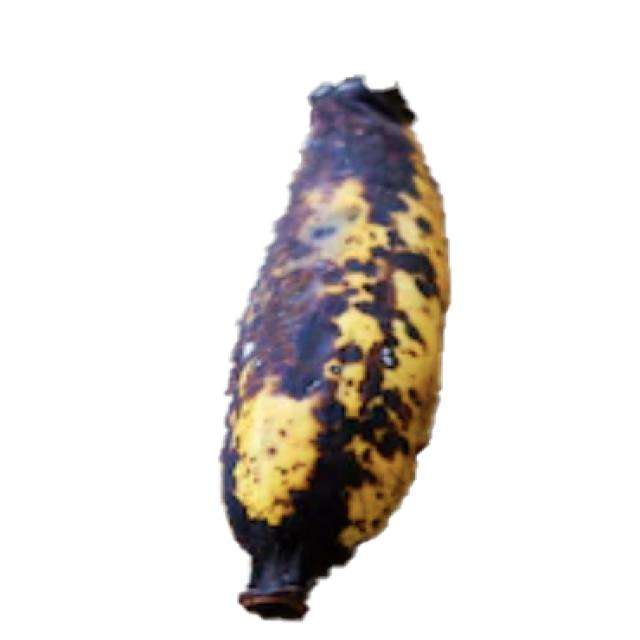rotten-banana: (218, 72, 451, 620)
